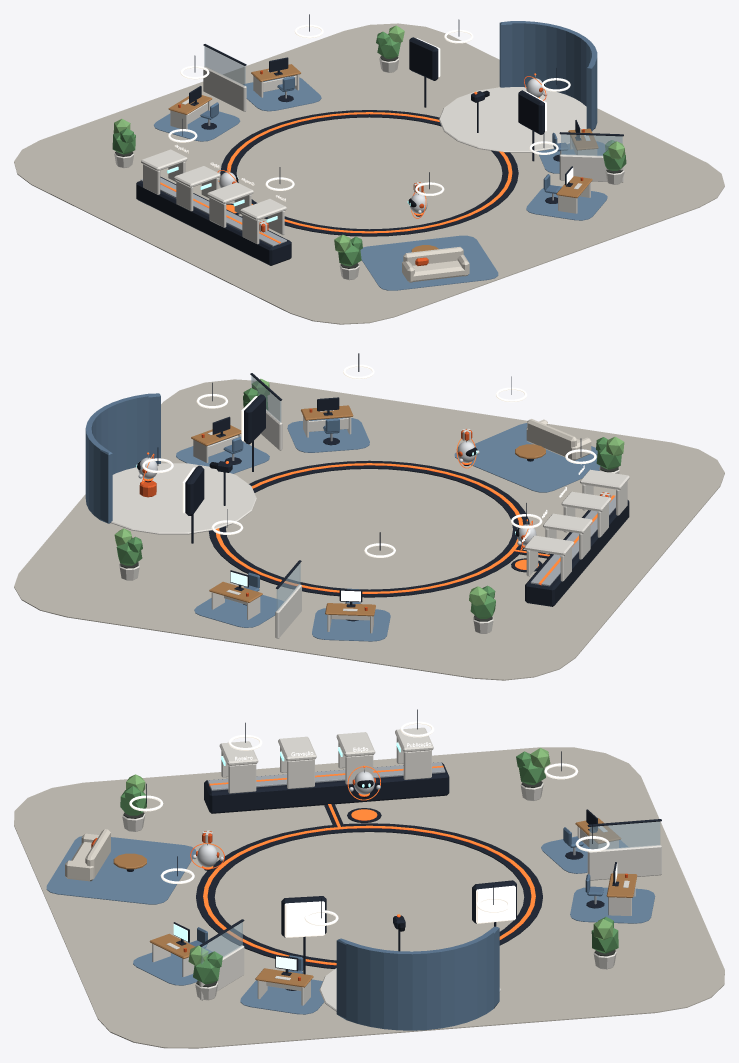
The model's file is interior_F04.glb.
3 renders of one model, top to bottom at view 1: azimuth 30°, elevation 25°; view 2: azimuth 150°, elevation 25°; view 3: azimuth 270°, elevation 25°, orthographic. The views are drawn at different scales.
Visible parts, largest first — view 1: AR_TorreHZK_F04_PisoAcab, AR_TorreHZK_F04_Estudio, AR_TorreHZK_F04_Esteira, AR_TorreHZK_F04_AnelBase, AR_TorreHZK_F04_Tapete_14, AR_TorreHZK_F04_Divisoria_7, AR_TorreHZK_F04_Divisoria_14, AR_TorreHZK_F04_Sofa_16, AR_TorreHZK_F04_AnelLuz, AR_TorreHZK_F04_Tapete_7, AR_TorreHZK_F04_Tapete_0, AR_TorreHZK_F04_Tapete_10 (+11 smaller); view 2: AR_TorreHZK_F04_PisoAcab, AR_TorreHZK_F04_Estudio, AR_TorreHZK_F04_Esteira, AR_TorreHZK_F04_AnelBase, AR_TorreHZK_F04_Tapete_14, AR_TorreHZK_F04_AnelLuz, AR_TorreHZK_F04_Tapete_10, AR_TorreHZK_F04_Tapete_0, AR_TorreHZK_F04_Tapete_7, AR_TorreHZK_F04_Sofa_16, AR_TorreHZK_F04_Divisoria_14, AR_TorreHZK_F04_Mesa_9 (+10 smaller); view 3: AR_TorreHZK_F04_PisoAcab, AR_TorreHZK_F04_Estudio, AR_TorreHZK_F04_Esteira, AR_TorreHZK_F04_AnelBase, AR_TorreHZK_F04_Tapete_14, AR_TorreHZK_F04_Divisoria_14, AR_TorreHZK_F04_AnelLuz, AR_TorreHZK_F04_Softbox0, AR_TorreHZK_F04_Tapete_7, AR_TorreHZK_F04_Divisoria_7, AR_TorreHZK_F04_Tapete_3, AR_TorreHZK_F04_Softbox1 (+13 smaller).
Part boxes in pixels (box(x1,y1,x2,y2)): AR_TorreHZK_F04_PisoAcab: box(14, 23, 724, 324); AR_TorreHZK_F04_Estudio: box(439, 21, 597, 152); AR_TorreHZK_F04_Esteira: box(136, 149, 291, 265); AR_TorreHZK_F04_AnelBase: box(220, 110, 518, 236); AR_TorreHZK_F04_Tapete_14: box(360, 235, 498, 290); AR_TorreHZK_F04_Divisoria_7: box(559, 132, 623, 182); AR_TorreHZK_F04_Divisoria_14: box(203, 44, 246, 111); AR_TorreHZK_F04_Sofa_16: box(402, 247, 469, 282); AR_TorreHZK_F04_AnelLuz: box(227, 112, 512, 233); AR_TorreHZK_F04_Tapete_7: box(243, 76, 321, 111); AR_TorreHZK_F04_Tapete_0: box(526, 186, 607, 220); AR_TorreHZK_F04_Tapete_10: box(154, 111, 240, 141); AR_TorreHZK_F04_PisoAcab: box(14, 379, 724, 680); AR_TorreHZK_F04_Estudio: box(85, 393, 256, 534); AR_TorreHZK_F04_Esteira: box(524, 469, 629, 606); AR_TorreHZK_F04_AnelBase: box(208, 460, 529, 597); AR_TorreHZK_F04_Tapete_14: box(454, 423, 600, 492); AR_TorreHZK_F04_AnelLuz: box(215, 463, 523, 593); AR_TorreHZK_F04_Tapete_10: box(312, 608, 390, 641); AR_TorreHZK_F04_Tapete_0: box(287, 417, 369, 452); AR_TorreHZK_F04_Tapete_7: box(194, 595, 283, 627); AR_TorreHZK_F04_Sofa_16: box(526, 419, 591, 460); AR_TorreHZK_F04_Divisoria_14: box(275, 560, 301, 638); AR_TorreHZK_F04_Mesa_9: box(209, 570, 262, 619); AR_TorreHZK_F04_PisoAcab: box(14, 747, 724, 1048); AR_TorreHZK_F04_Estudio: box(319, 926, 500, 1030); AR_TorreHZK_F04_Esteira: box(204, 727, 449, 813); AR_TorreHZK_F04_AnelBase: box(196, 823, 542, 968); AR_TorreHZK_F04_Tapete_14: box(46, 836, 195, 904); AR_TorreHZK_F04_Divisoria_14: box(587, 819, 661, 880); AR_TorreHZK_F04_AnelLuz: box(203, 825, 535, 965); AR_TorreHZK_F04_Softbox0: box(281, 896, 326, 974); AR_TorreHZK_F04_Tapete_7: box(570, 887, 655, 923); AR_TorreHZK_F04_Divisoria_7: box(199, 919, 244, 1000); AR_TorreHZK_F04_Tapete_3: box(240, 979, 324, 1014); AR_TorreHZK_F04_Softbox1: box(472, 880, 516, 926).
Size of the model in its own units: 22.73 by 3.33 by 22.73.
